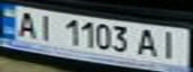0: (93, 20, 115, 52)
1: (57, 16, 81, 47), (78, 19, 96, 48)
3: (112, 24, 133, 55)
A: (12, 8, 42, 39), (136, 26, 163, 60)
I: (154, 28, 184, 61), (33, 11, 60, 42)
